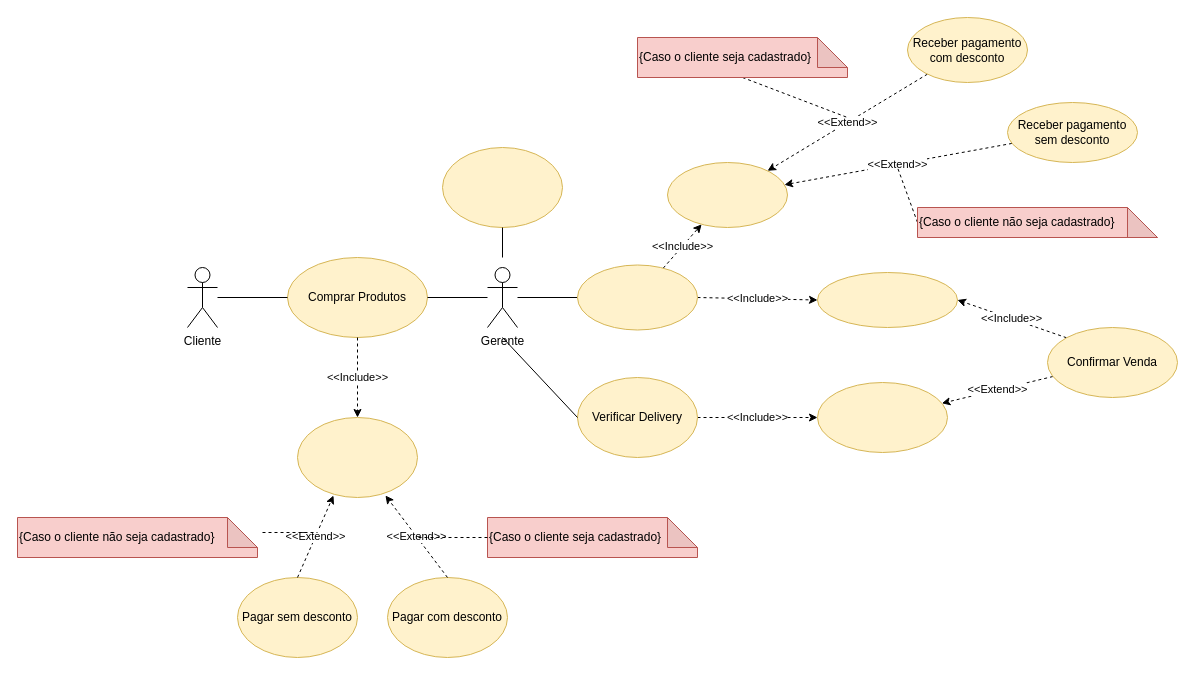
This 1195x675 diagram has some shape labels left out. Here are the shapes that lost their labels. From the top down, the box of each, then its label:
(442, 146, 562, 228): Cadastrar Cliente
(666, 162, 788, 228): Receber Pagamento
(576, 264, 698, 330): Efetuar Venda
(816, 272, 958, 328): Emitir nota fiscal
(816, 382, 948, 452): Verificar Itens e Nota Fiscal
(296, 416, 418, 498): Efetuar Pagamento
